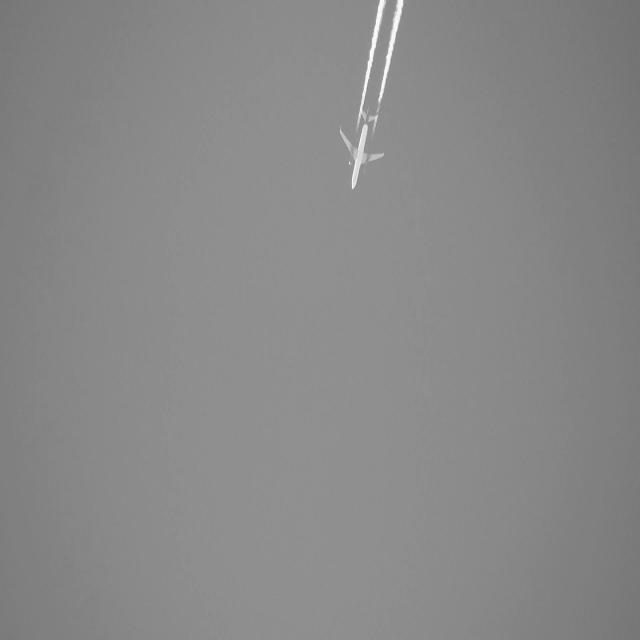aeroplane: (336, 96, 388, 198)
